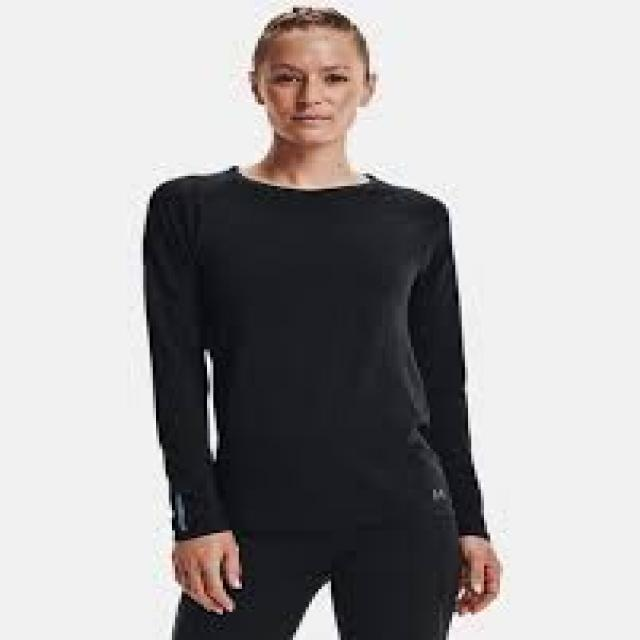plain: (107, 151, 495, 541)
